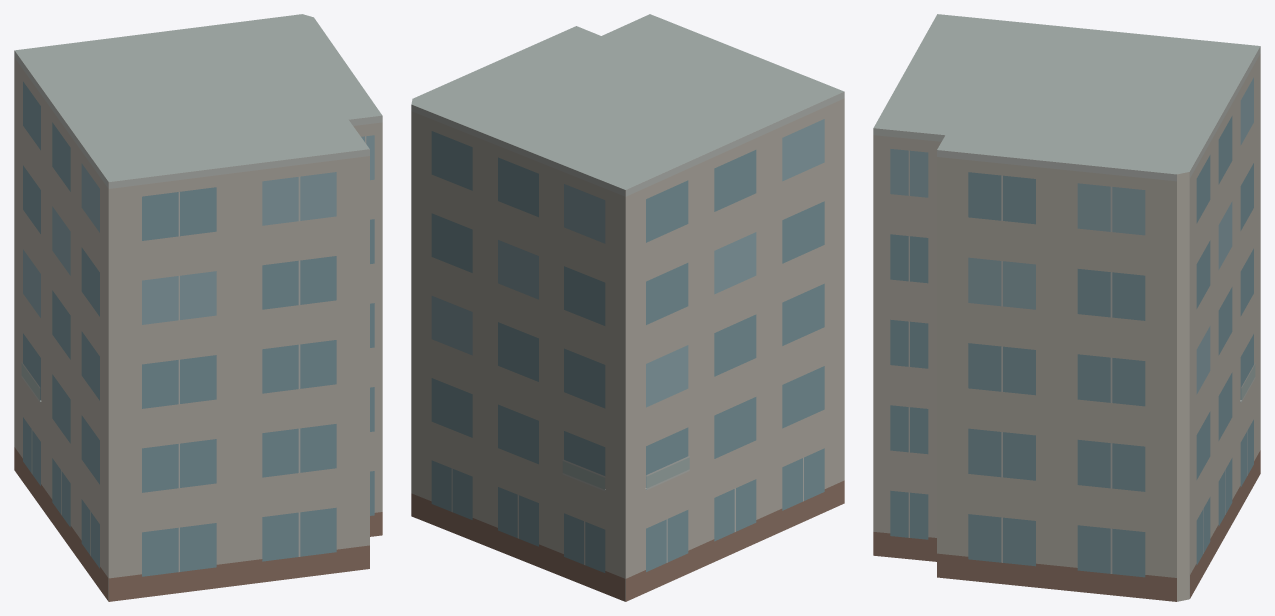
Rendered from survey-upis-32528405.glb.
3 renders of one model, left to right at view 1: azimuth 30°, elevation 25°; view 2: azimuth 150°, elevation 25°; view 3: azimuth 270°, elevation 25°, orthographic. The views are drawn at different scales.
Parts seen in each view (by area): view 1: survey-upis-32528405.tmp; view 2: survey-upis-32528405.tmp; view 3: survey-upis-32528405.tmp.
Boxes of the visible parts, left/top/right/bottom form: survey-upis-32528405.tmp: left=14, top=14, right=382, bottom=601; survey-upis-32528405.tmp: left=411, top=14, right=844, bottom=601; survey-upis-32528405.tmp: left=873, top=14, right=1260, bottom=601.
Size of the model in its own units: 12.08 by 15 by 12.33.
